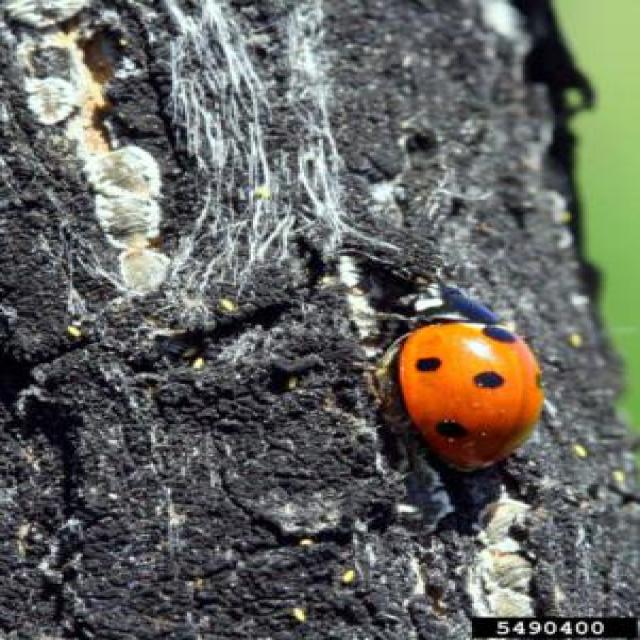body: (381, 283, 542, 470)
insect: (356, 262, 548, 477)
wings: (403, 323, 547, 472)
